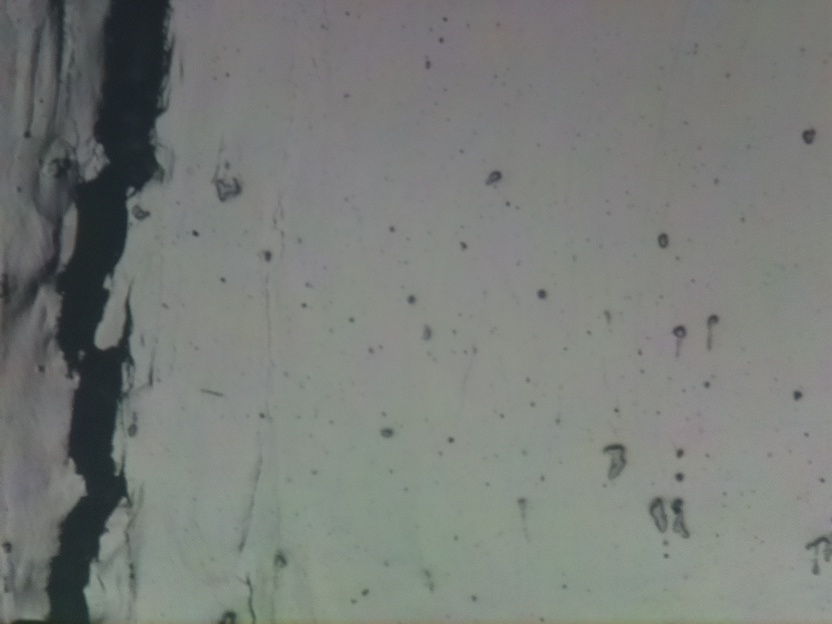crack: (38, 0, 174, 624)
